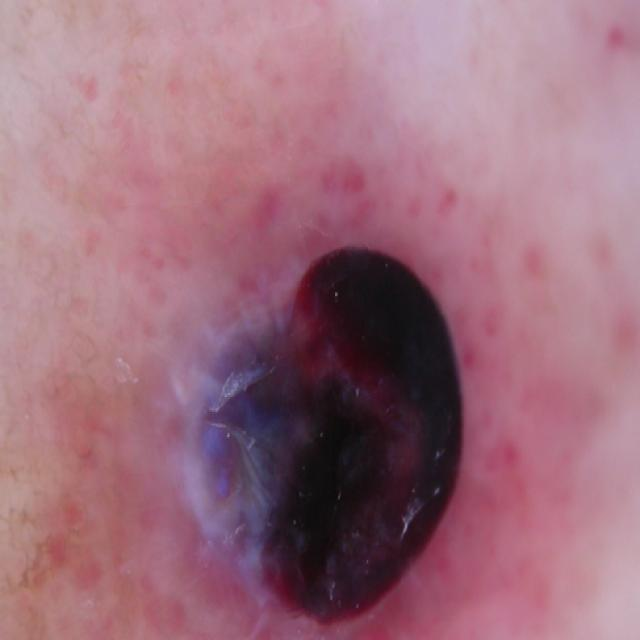Vascular Lesions: (131, 231, 524, 640)
